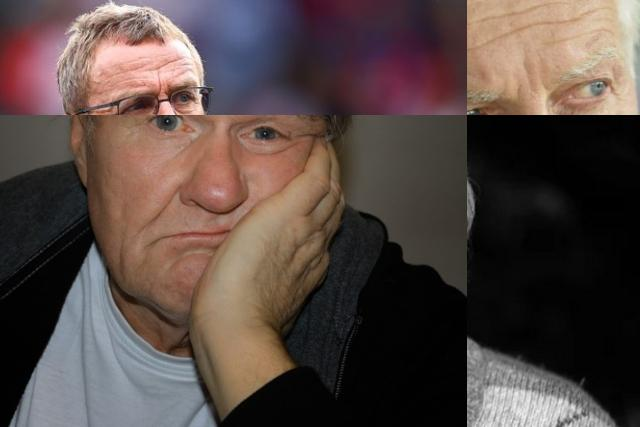crows_feet: (95, 105, 118, 115)
forehead: (535, 0, 571, 29), (476, 6, 524, 24), (488, 25, 530, 45), (578, 0, 611, 23), (111, 60, 145, 82), (152, 57, 194, 73), (467, 38, 478, 61)
frown_line: (516, 62, 536, 90), (154, 76, 164, 96)
gummy_smile: (150, 181, 178, 221)
masseter: (113, 241, 129, 274)
